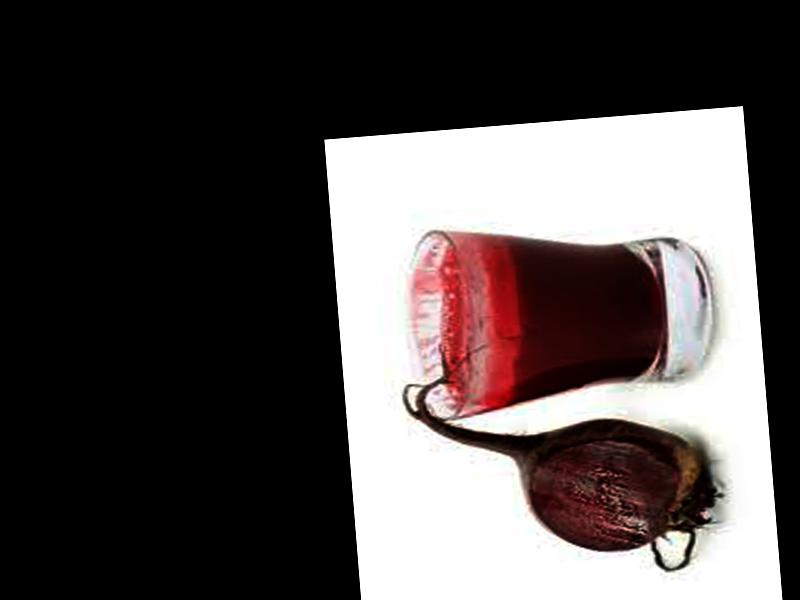Beet: (399, 332, 724, 590)
